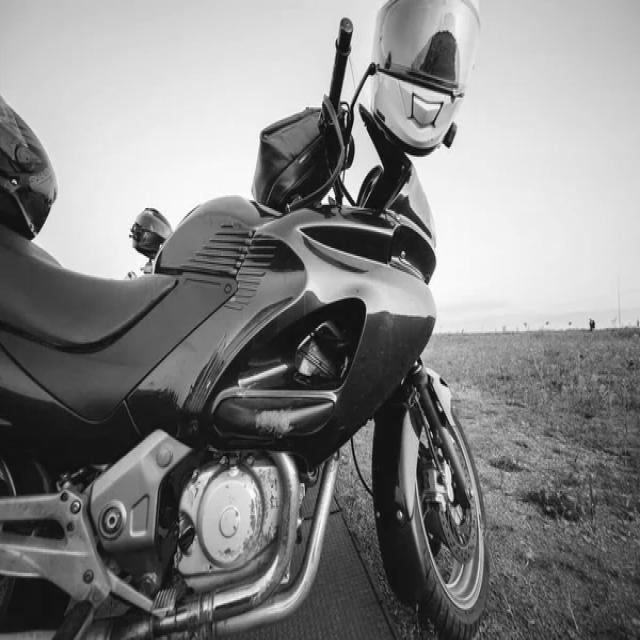Motorcycle: (0, 0, 488, 639)
